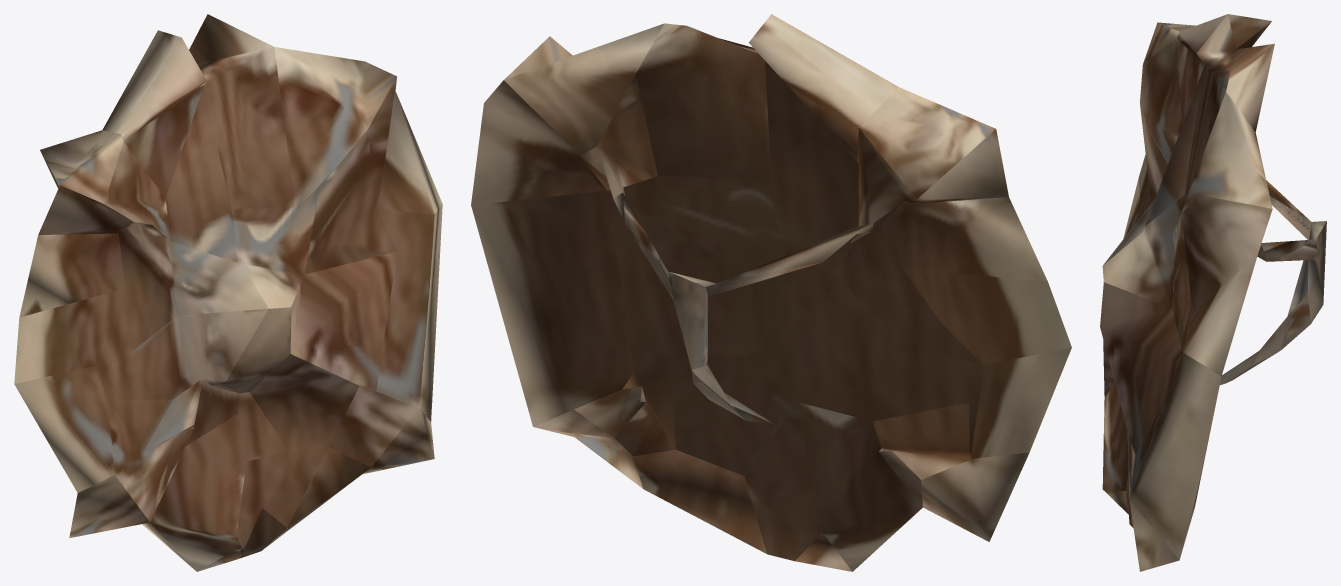
Rendered from Shield_lod.glb.
The picture shows the model from 3 angles, left to right: view 1: azimuth 30°, elevation 25°; view 2: azimuth 150°, elevation 25°; view 3: azimuth 270°, elevation 25°; orthographic projection. The views are drawn at different scales.
Visible parts, largest first — view 1: Shield; view 2: Shield; view 3: Shield.
Part boxes in pixels (x1,y1,x2,y2): Shield: [14, 14, 442, 571]; Shield: [471, 14, 1071, 571]; Shield: [1100, 14, 1326, 571].
Bounding box in the file's own units: 0.9602 × 0.9728 × 0.3922.
Materials: 1 (1 with a texture image).
